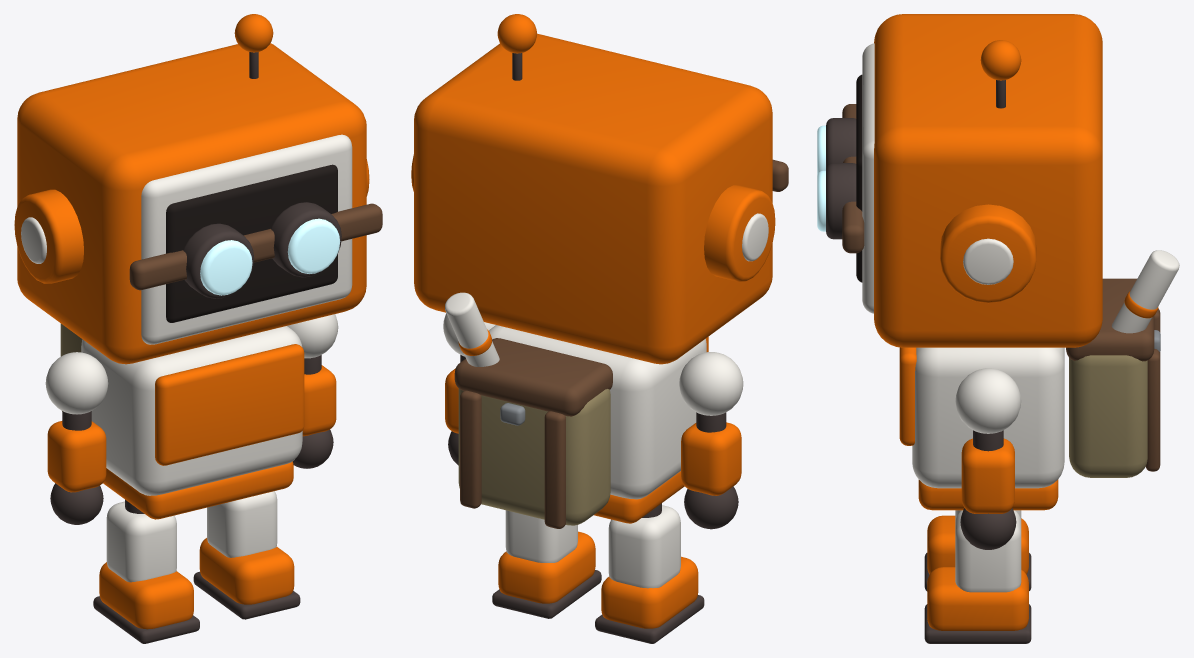
Rendered from traveler.glb.
3 views of the same model, side by side, from view 1: azimuth 30°, elevation 25°; view 2: azimuth 150°, elevation 25°; view 3: azimuth 270°, elevation 25° (orthographic). The views are drawn at different scales.
Visible parts, largest first — view 1: Head_Shell, Torso_Body, Torso_ChestPlate, Head_Bezel, Head_Screen, Leg_L_Armor, Head_Ear_L, Torso_Waist, Leg_R_Boot, Leg_L_Boot, Leg_R_Armor, Gog_Band (+14 smaller); view 2: Head_Shell, Pack_Body, Torso_Body, Pack_Flap, Leg_L_Armor, Head_Ear_L, Leg_R_Boot, Leg_L_Boot, Arm_L_Forearm, Arm_L_Shoulder, Leg_R_Armor, Pack_Strap_R (+9 smaller); view 3: Head_Shell, Torso_Body, Pack_Body, Head_Ear_R, Leg_R_Boot, Arm_R_Forearm, Leg_R_Armor, Arm_R_Shoulder, Head_Bezel, Pack_Flap, Map_Roll, Torso_Waist (+13 smaller).
Part boxes in pixels (bbox=[...]): Head_Shell: bbox=[17, 43, 366, 364]; Torso_Body: bbox=[81, 326, 302, 495]; Torso_ChestPlate: bbox=[155, 344, 304, 465]; Head_Bezel: bbox=[141, 134, 352, 344]; Head_Screen: bbox=[166, 164, 337, 322]; Leg_L_Armor: bbox=[106, 501, 176, 582]; Head_Ear_L: bbox=[14, 189, 83, 283]; Torso_Waist: bbox=[103, 461, 293, 519]; Leg_R_Boot: bbox=[199, 538, 294, 604]; Leg_L_Boot: bbox=[99, 562, 193, 629]; Leg_R_Armor: bbox=[207, 491, 277, 557]; Gog_Band: bbox=[129, 203, 382, 290]; Head_Shell: bbox=[414, 33, 772, 364]; Pack_Body: bbox=[458, 388, 610, 525]; Torso_Body: bbox=[488, 325, 706, 499]; Pack_Flap: bbox=[454, 338, 612, 416]; Leg_L_Armor: bbox=[608, 505, 680, 588]; Head_Ear_L: bbox=[704, 185, 775, 281]; Leg_R_Boot: bbox=[498, 531, 595, 603]; Leg_L_Boot: bbox=[601, 556, 698, 628]; Arm_L_Forearm: bbox=[681, 422, 741, 495]; Arm_L_Shoulder: bbox=[679, 352, 743, 415]; Leg_R_Armor: bbox=[505, 510, 577, 562]; Pack_Strap_R: bbox=[460, 390, 481, 508]; Head_Shell: bbox=[874, 14, 1102, 347]; Torso_Body: bbox=[912, 347, 1064, 488]; Pack_Body: bbox=[1069, 355, 1147, 477]; Head_Ear_R: bbox=[940, 204, 1036, 303]; Leg_R_Boot: bbox=[927, 567, 1028, 630]; Arm_R_Forearm: bbox=[961, 438, 1014, 513]; Leg_R_Armor: bbox=[955, 510, 1021, 592]; Arm_R_Shoulder: bbox=[955, 368, 1021, 433]; Head_Bezel: bbox=[862, 43, 874, 313]; Pack_Flap: bbox=[1066, 278, 1154, 361]; Map_Roll: bbox=[1111, 250, 1179, 333]; Torso_Waist: bbox=[918, 479, 1058, 510].
Size of the model in its own units: 1.33 by 2.24 by 1.23.
